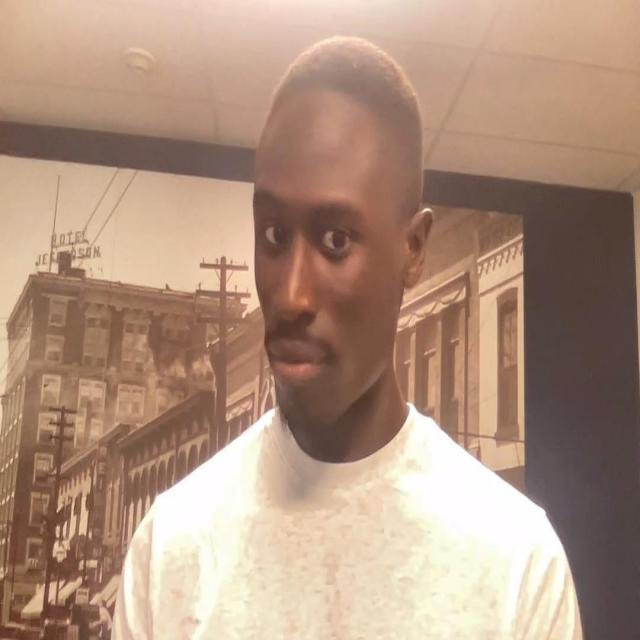face: (250, 102, 430, 430)
